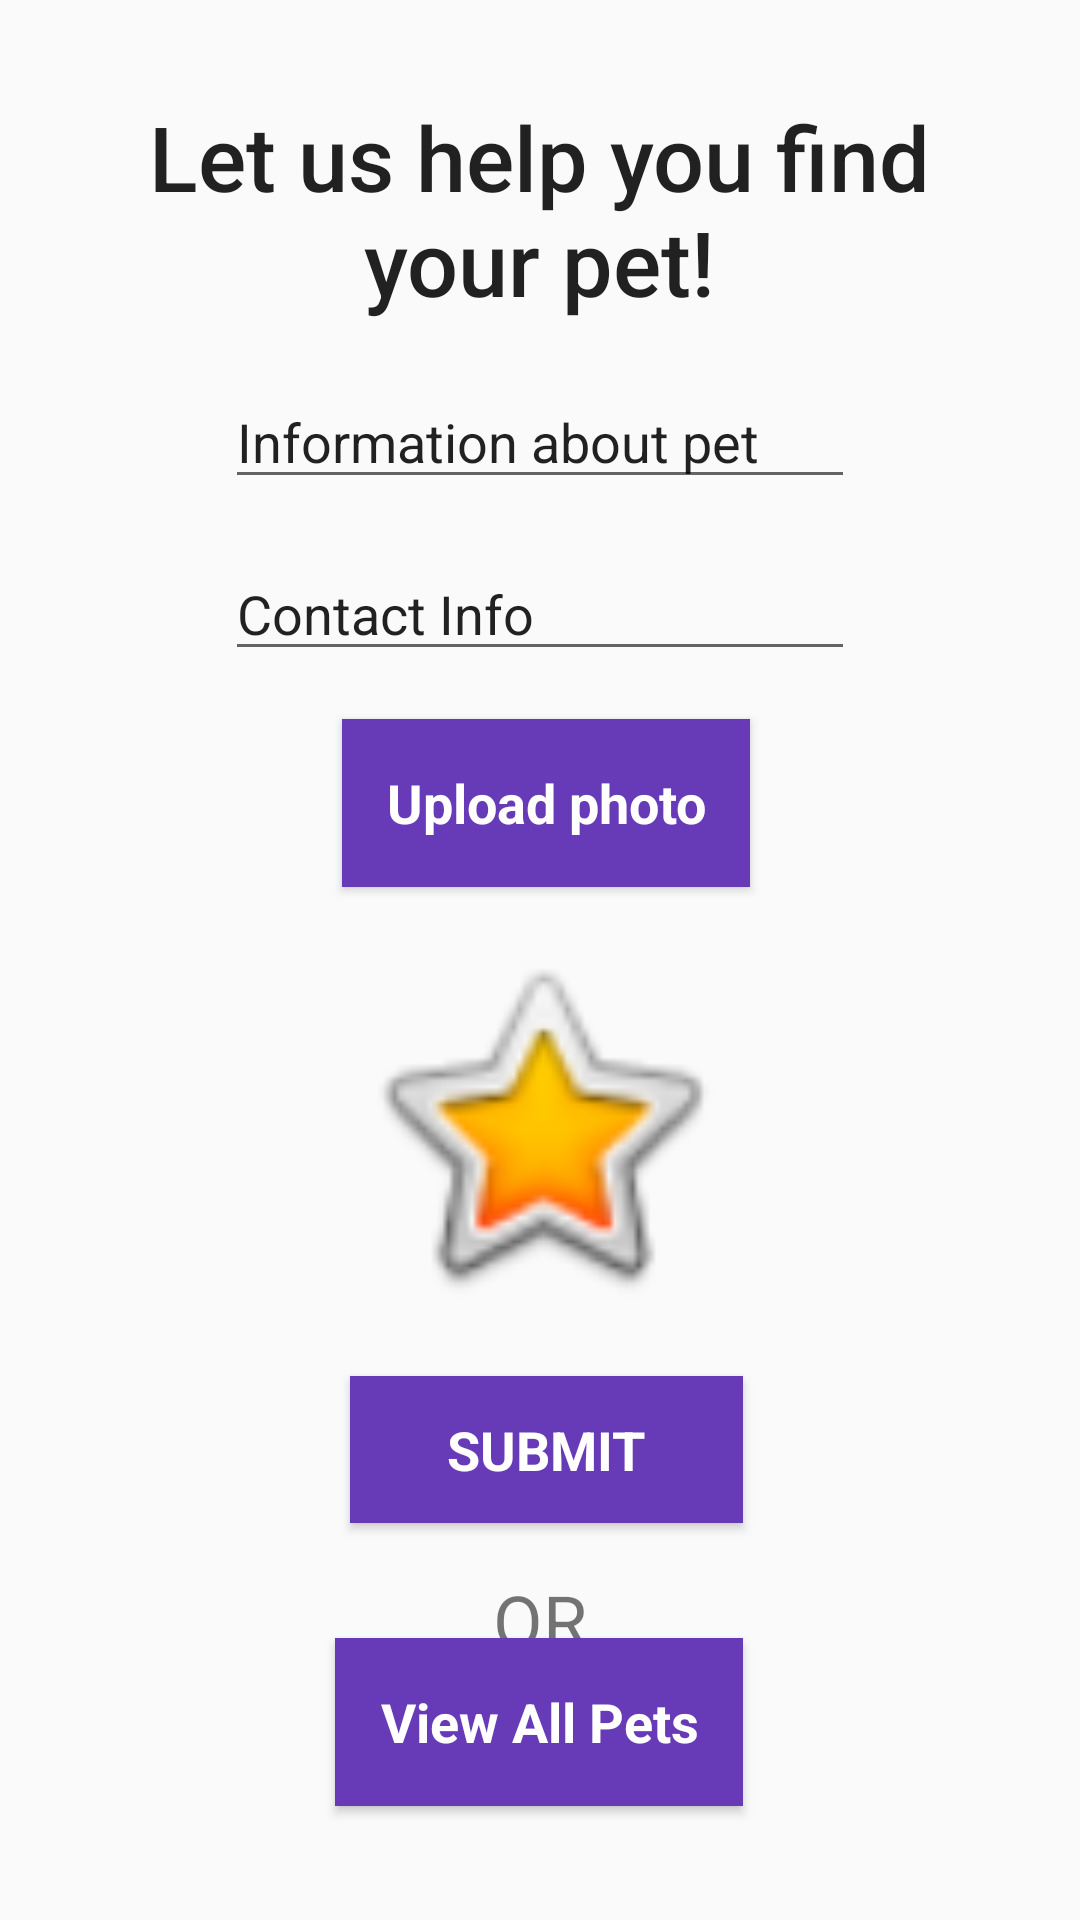

Named icons in this screenshot (1080*1920) and their bounding boxes, (x1, y1, x2, y2):
star on: (384, 973, 703, 1284)
